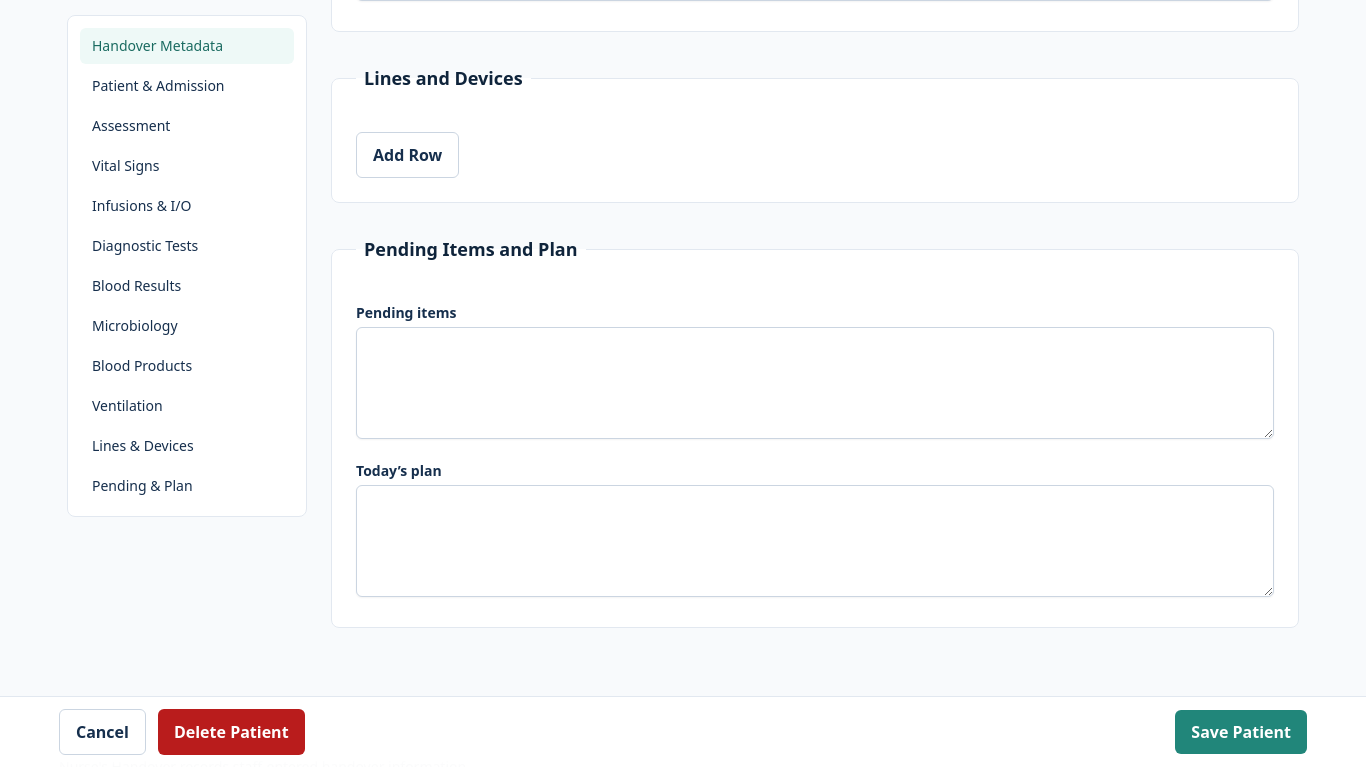
Test case: PatientFormPage › shows simultaneous-edit conflict message
(page scrolled)
Type " updated" into the text box labelled "Pending items" at point(815, 383), box [356, 327, 1274, 439]
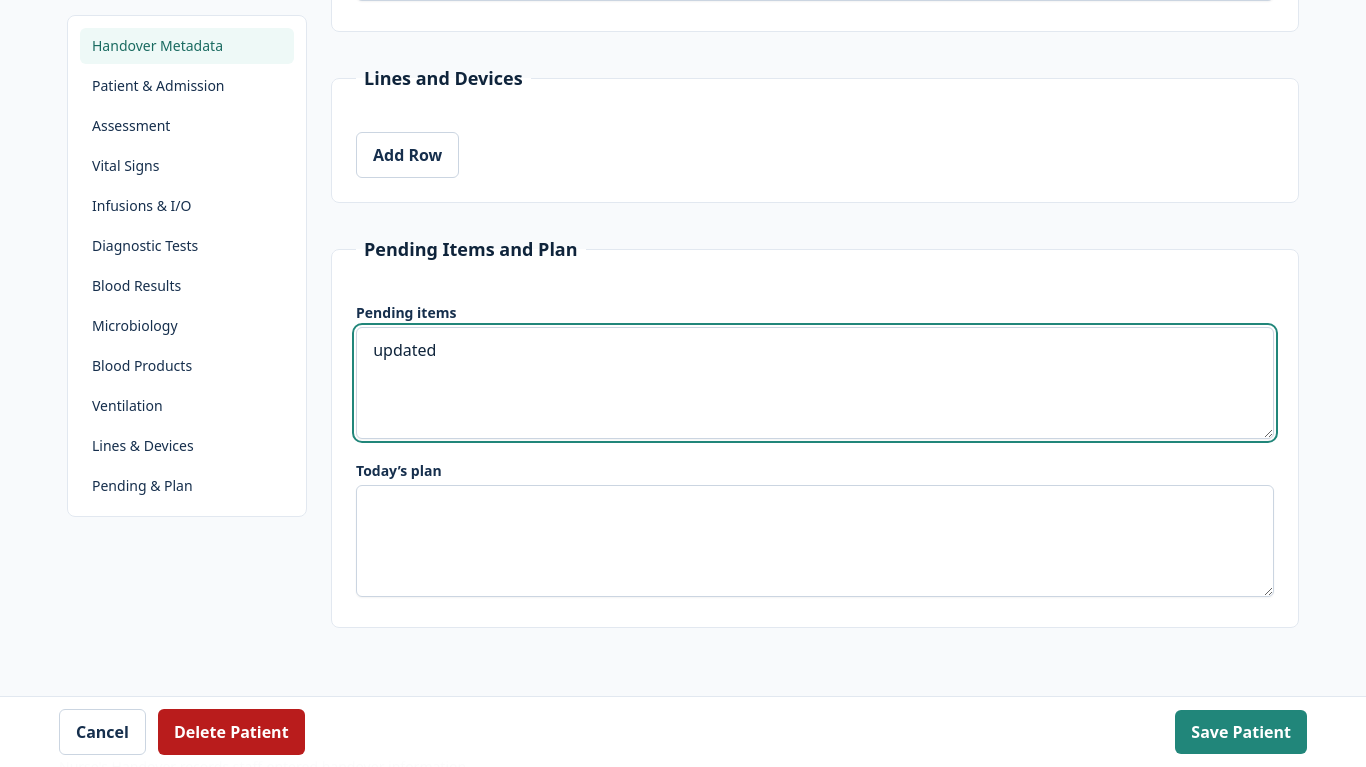
Click the button "Save Patient" at point(1241, 732), box [1175, 710, 1307, 754]
(page scrolled)
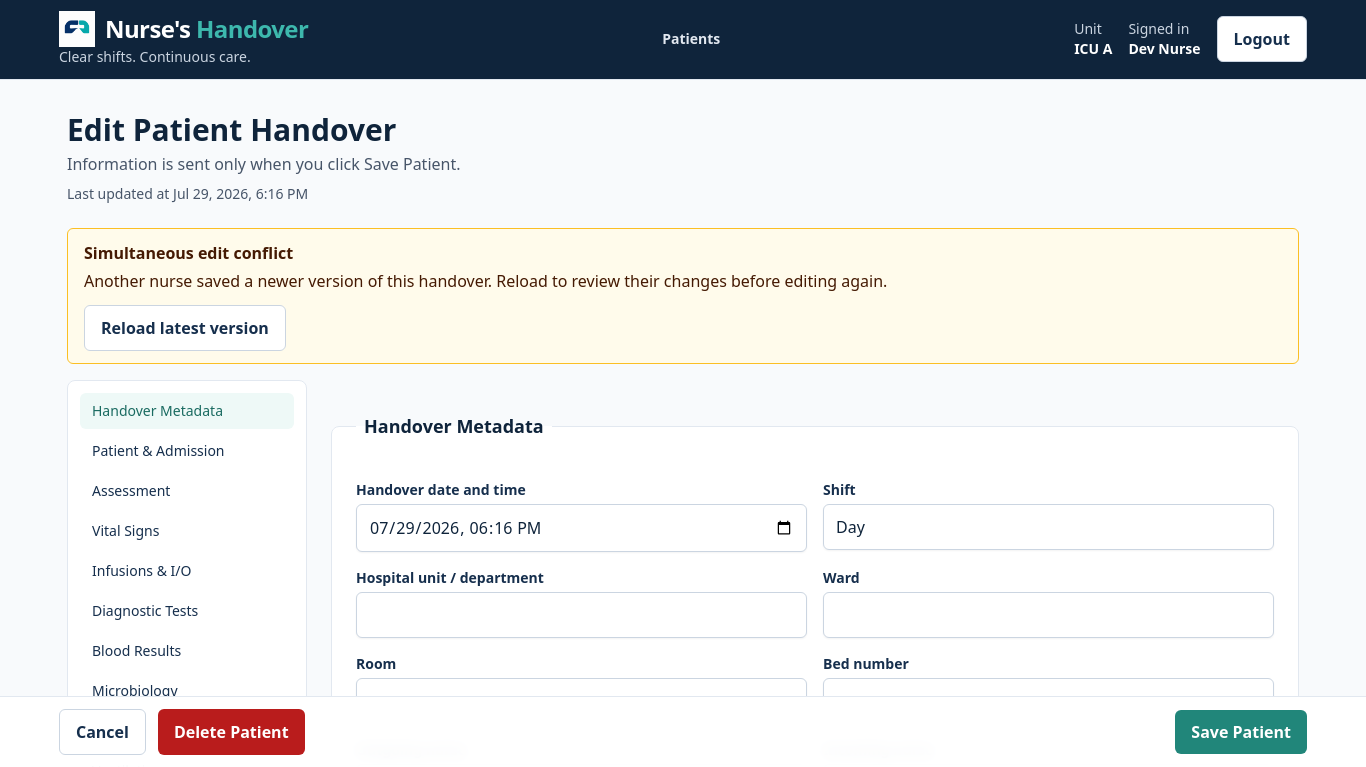
Check: the text "Simultaneous edit conflict" is shown, box [84, 242, 293, 264]
